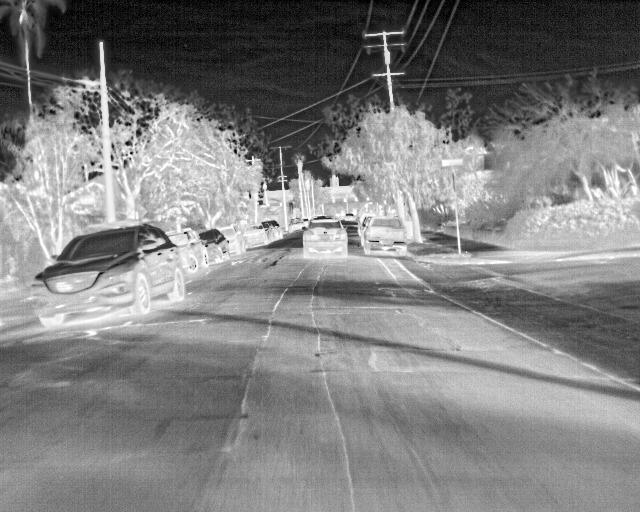car: (33, 224, 185, 330), (166, 226, 209, 274), (363, 214, 409, 257), (303, 214, 348, 257), (196, 226, 230, 264), (220, 225, 247, 255), (244, 223, 272, 247), (264, 219, 285, 241), (355, 214, 369, 234), (342, 211, 355, 226), (340, 207, 350, 218), (300, 217, 310, 228)
